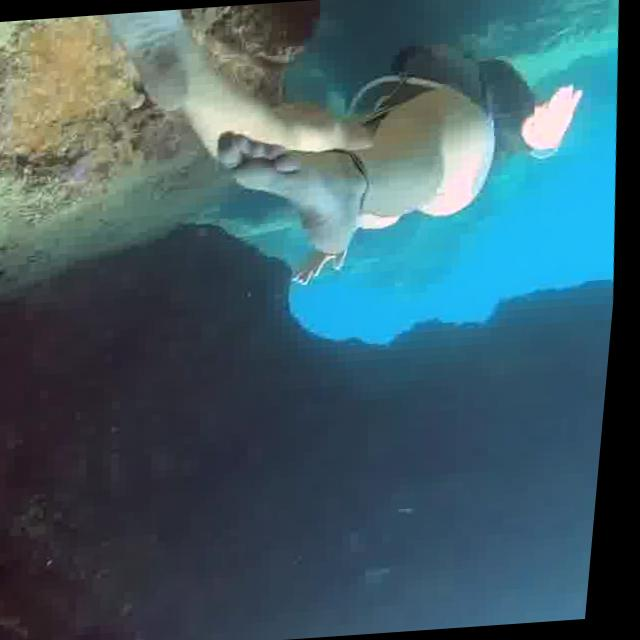human: (72, 0, 607, 311)
